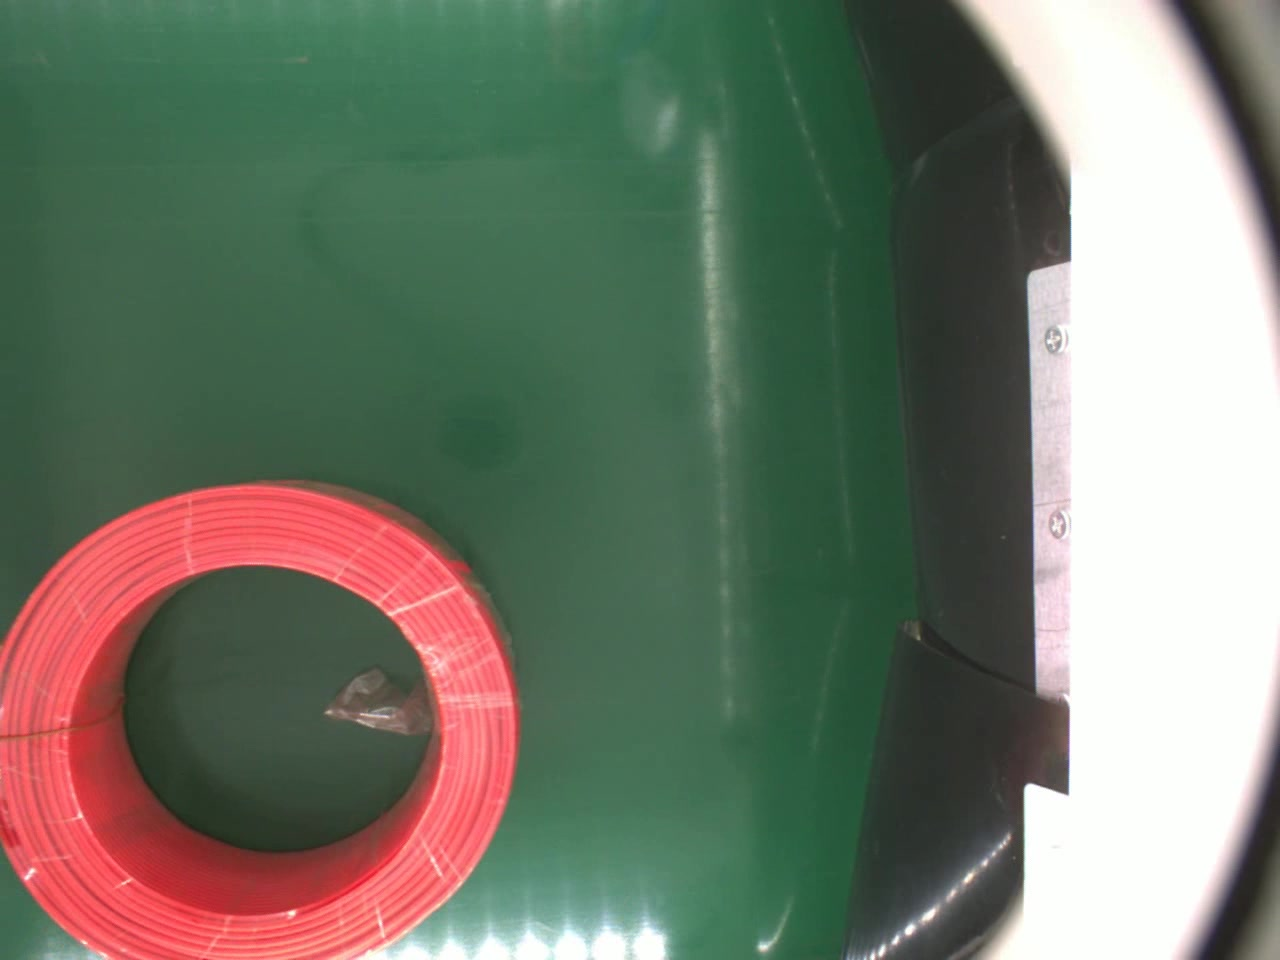red: (0, 478, 523, 960)
